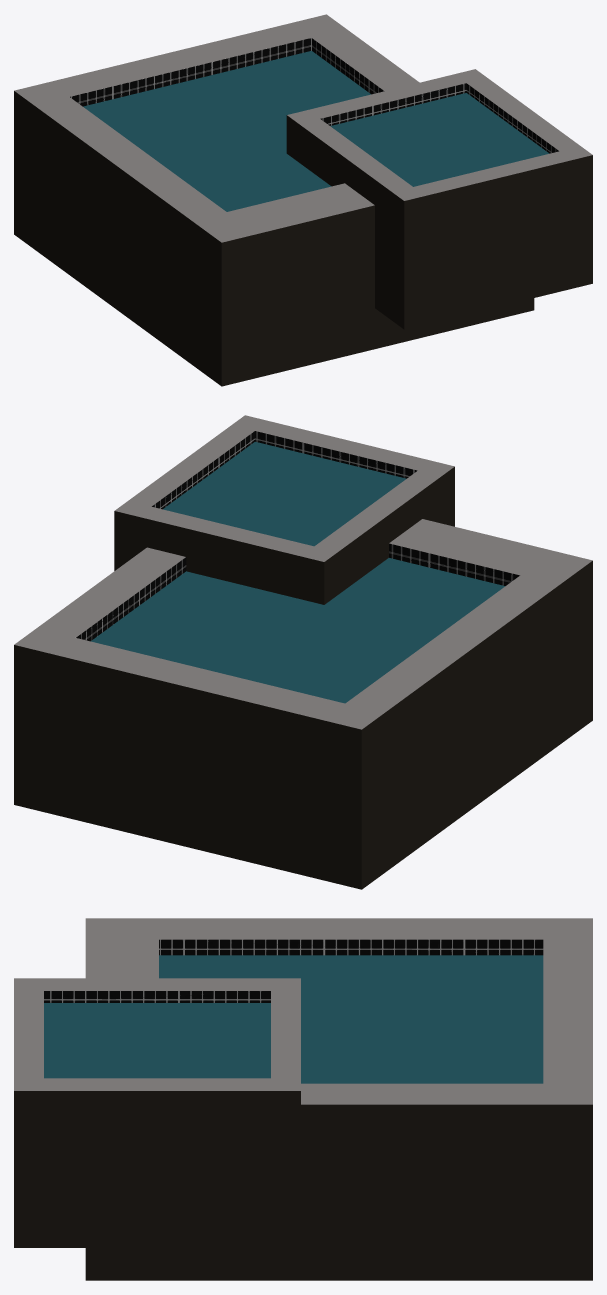
Rendered from jacuzzi.lod1.glb.
3 views of the same model, one above another, from view 1: azimuth 30°, elevation 25°; view 2: azimuth 150°, elevation 25°; view 3: azimuth 270°, elevation 25° (orthographic). The views are drawn at different scales.
Visible parts, largest first — view 1: Material2 (×2); view 2: Material2 (×2); view 3: Material2 (×2).
Part boxes in pixels (bbox=[...]): Material2 (×2): bbox=[14, 14, 592, 386]; Material2 (×2): bbox=[14, 415, 592, 889]; Material2 (×2): bbox=[14, 918, 592, 1280].
Bounding box in the file's own units: 1.83 × 0.8682 × 2.2.
Materials: 2 (1 with a texture image).
